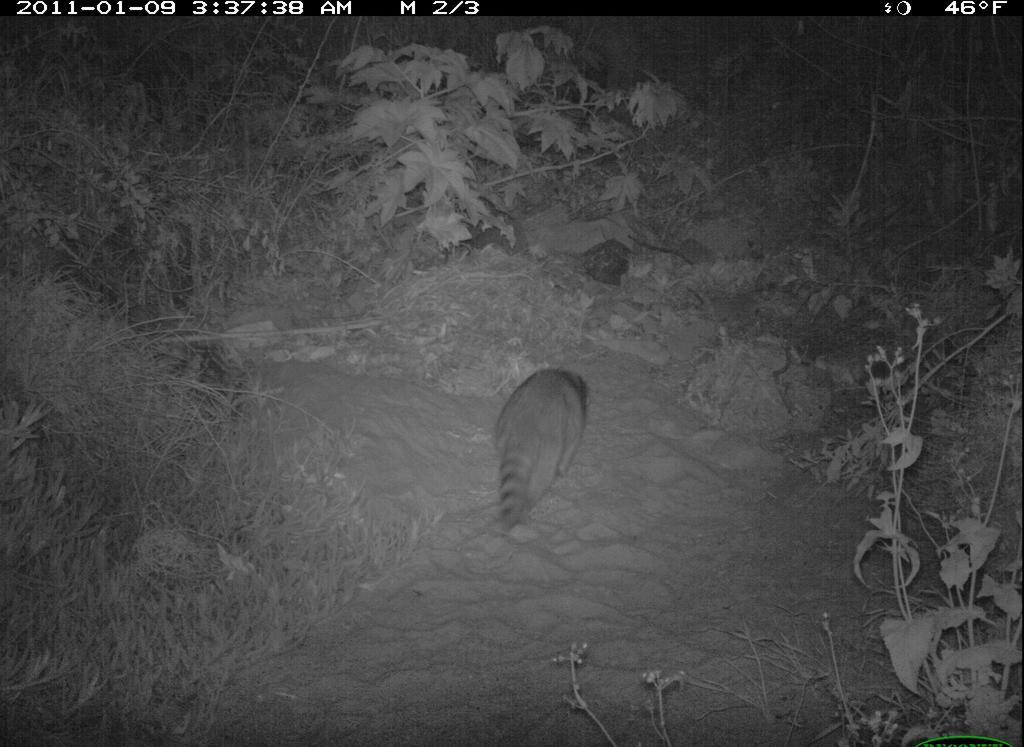raccoon: (478, 356, 600, 529)
